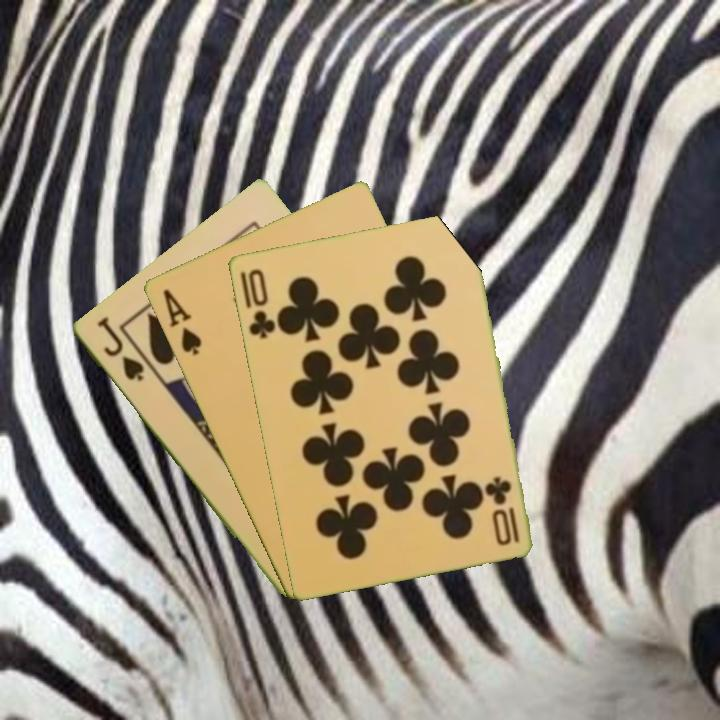10c: (484, 472, 522, 545), (244, 265, 278, 342)
As: (159, 285, 204, 359)
Js: (93, 314, 147, 384)
